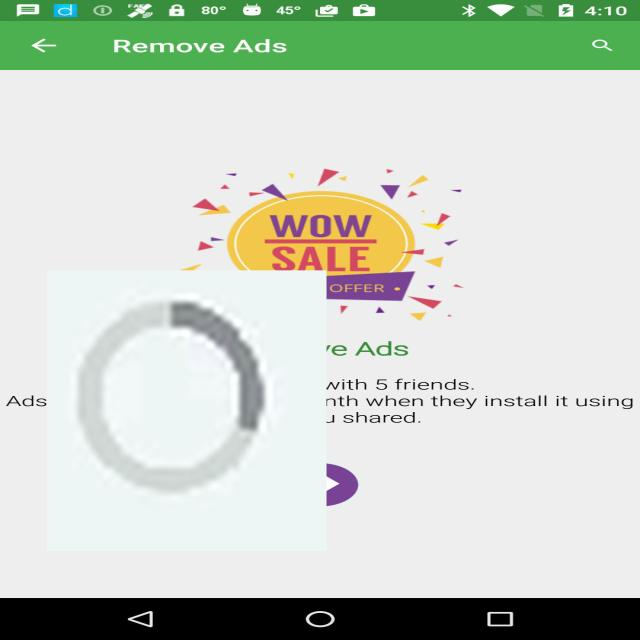misdirection: (47, 270, 326, 551)
